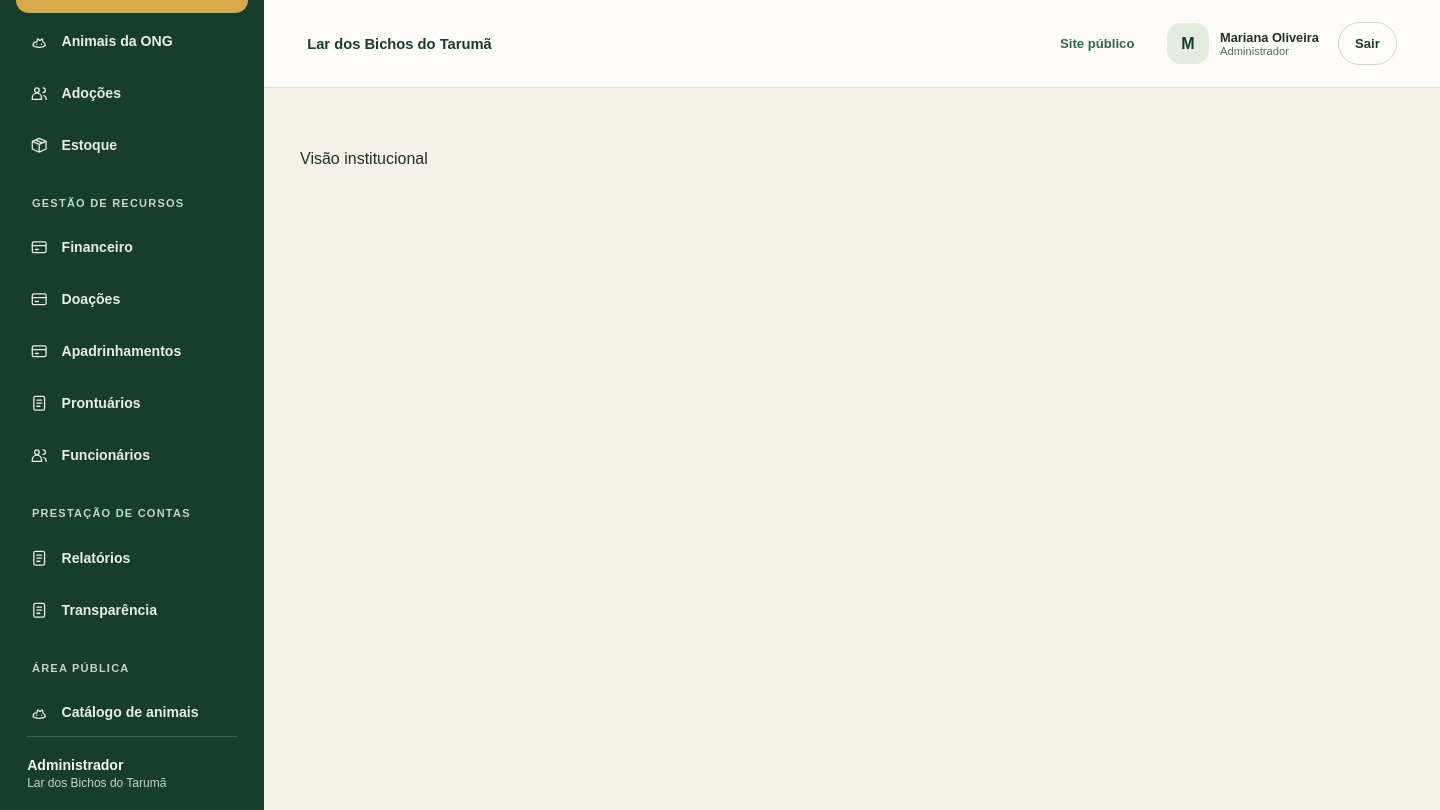
Test: mantém links inferiores disponíveis e destaca a rota selecionada
The image size is (1440, 810).
(page scrolled)
Expected: the link "Funcionários" is shown, [30,446,150,465]
Expected: the link "Transparência" is shown, [30,601,157,619]
Click the link "Relatórios".
click(80, 558)  # box [30,549,130,567]
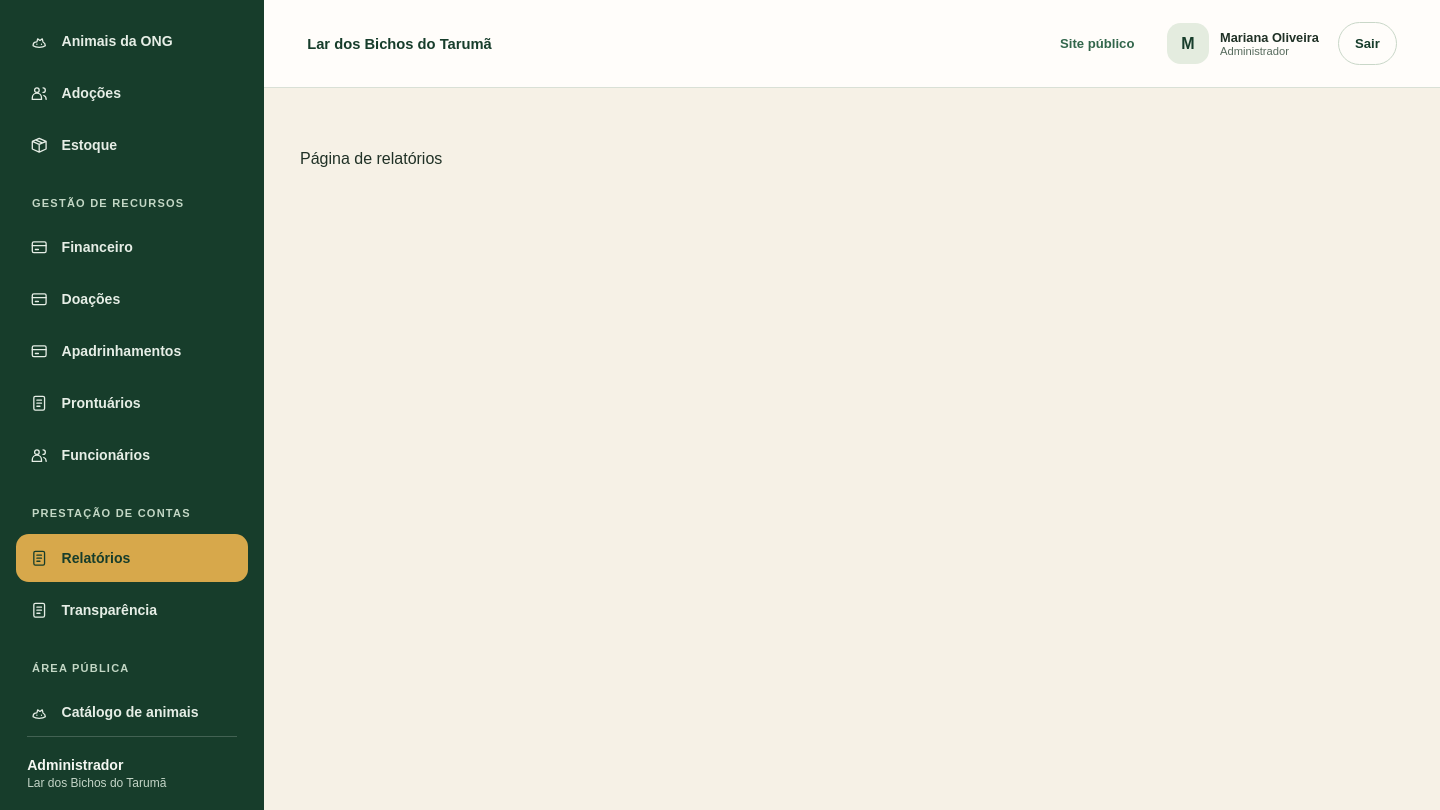
Expected: the text "Página de relatórios" is shown, [300,150,442,167]
